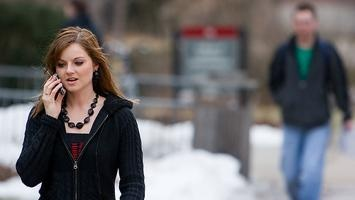person without safety: (13, 25, 150, 200)
